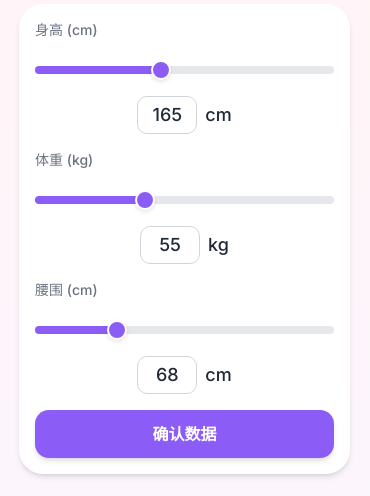
Scenario: AuxiliaryInput › updates height slider value on change
The image size is (370, 496).
Set the slider below "身高 (cm)" to "170": (184, 70) [35,66,334,74]
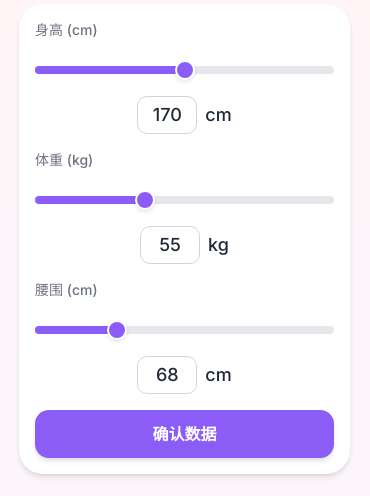
Expected: the button "170" is shown, [137,96,197,134]
